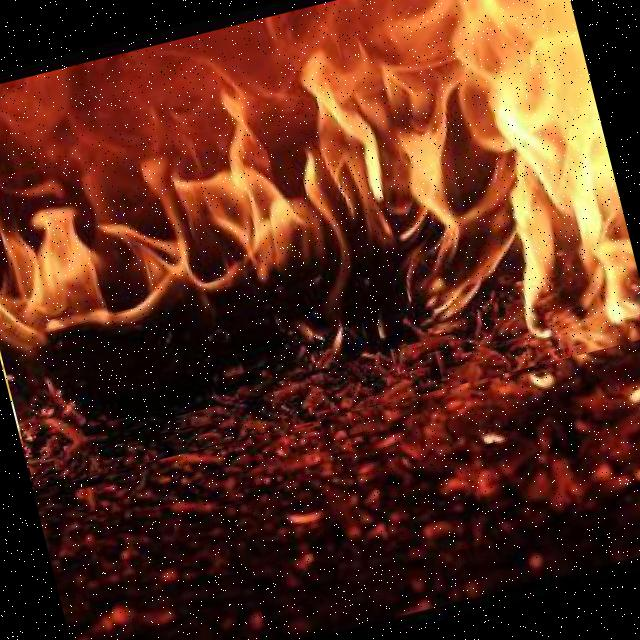fire: (0, 0, 640, 490)
